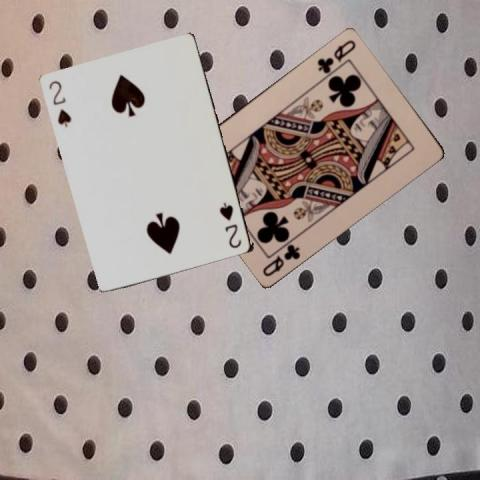2s: (46, 78, 73, 130), (218, 199, 244, 250)
Qc: (314, 36, 357, 74), (259, 240, 302, 277)
